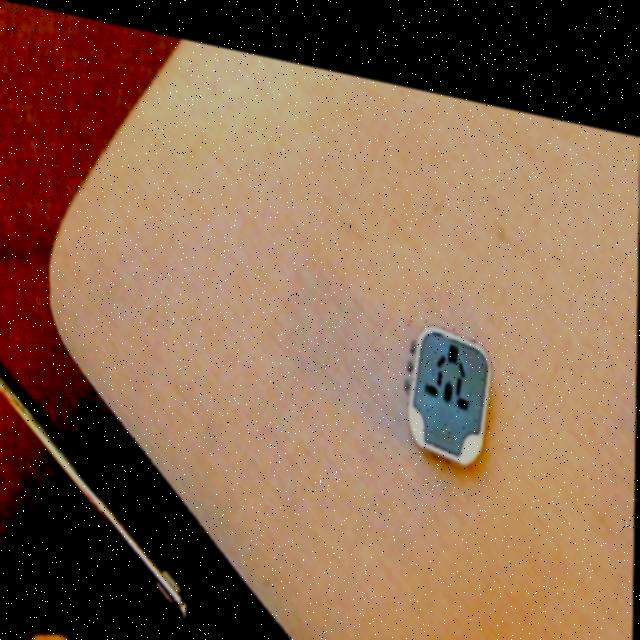adapter: (404, 298, 493, 450)
